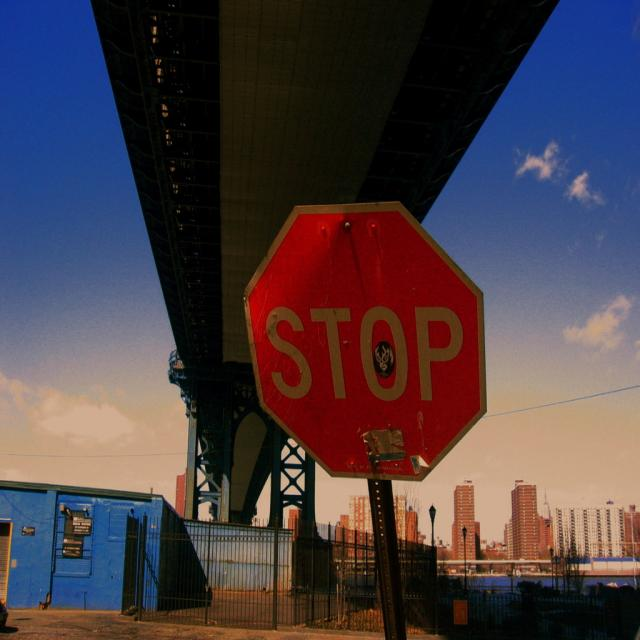Stop-sign: (239, 197, 489, 480)
